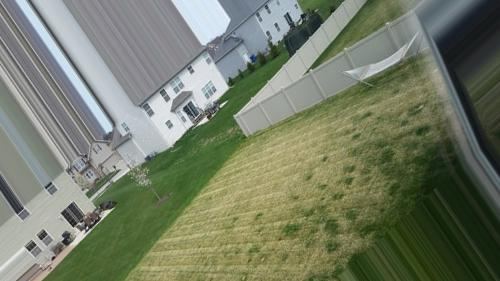patch: (248, 151, 319, 278), (326, 108, 387, 235), (378, 85, 420, 176), (162, 249, 248, 280), (213, 186, 246, 249), (181, 218, 250, 247), (275, 129, 343, 156)
